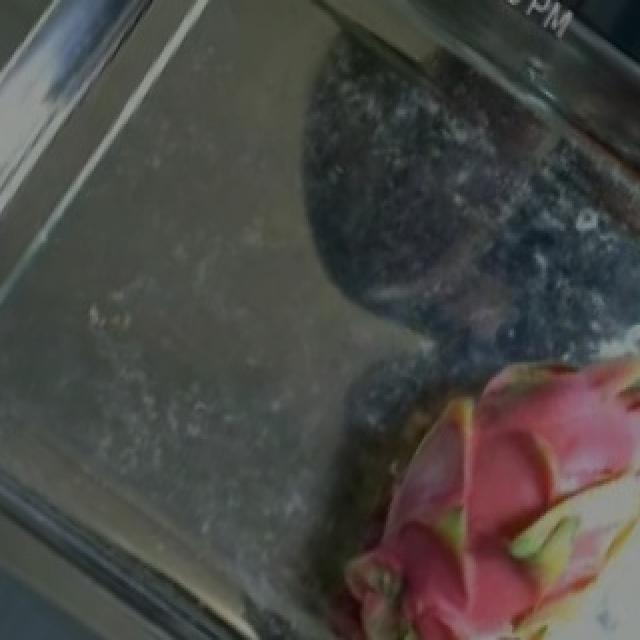fruit: (276, 275, 638, 640)
